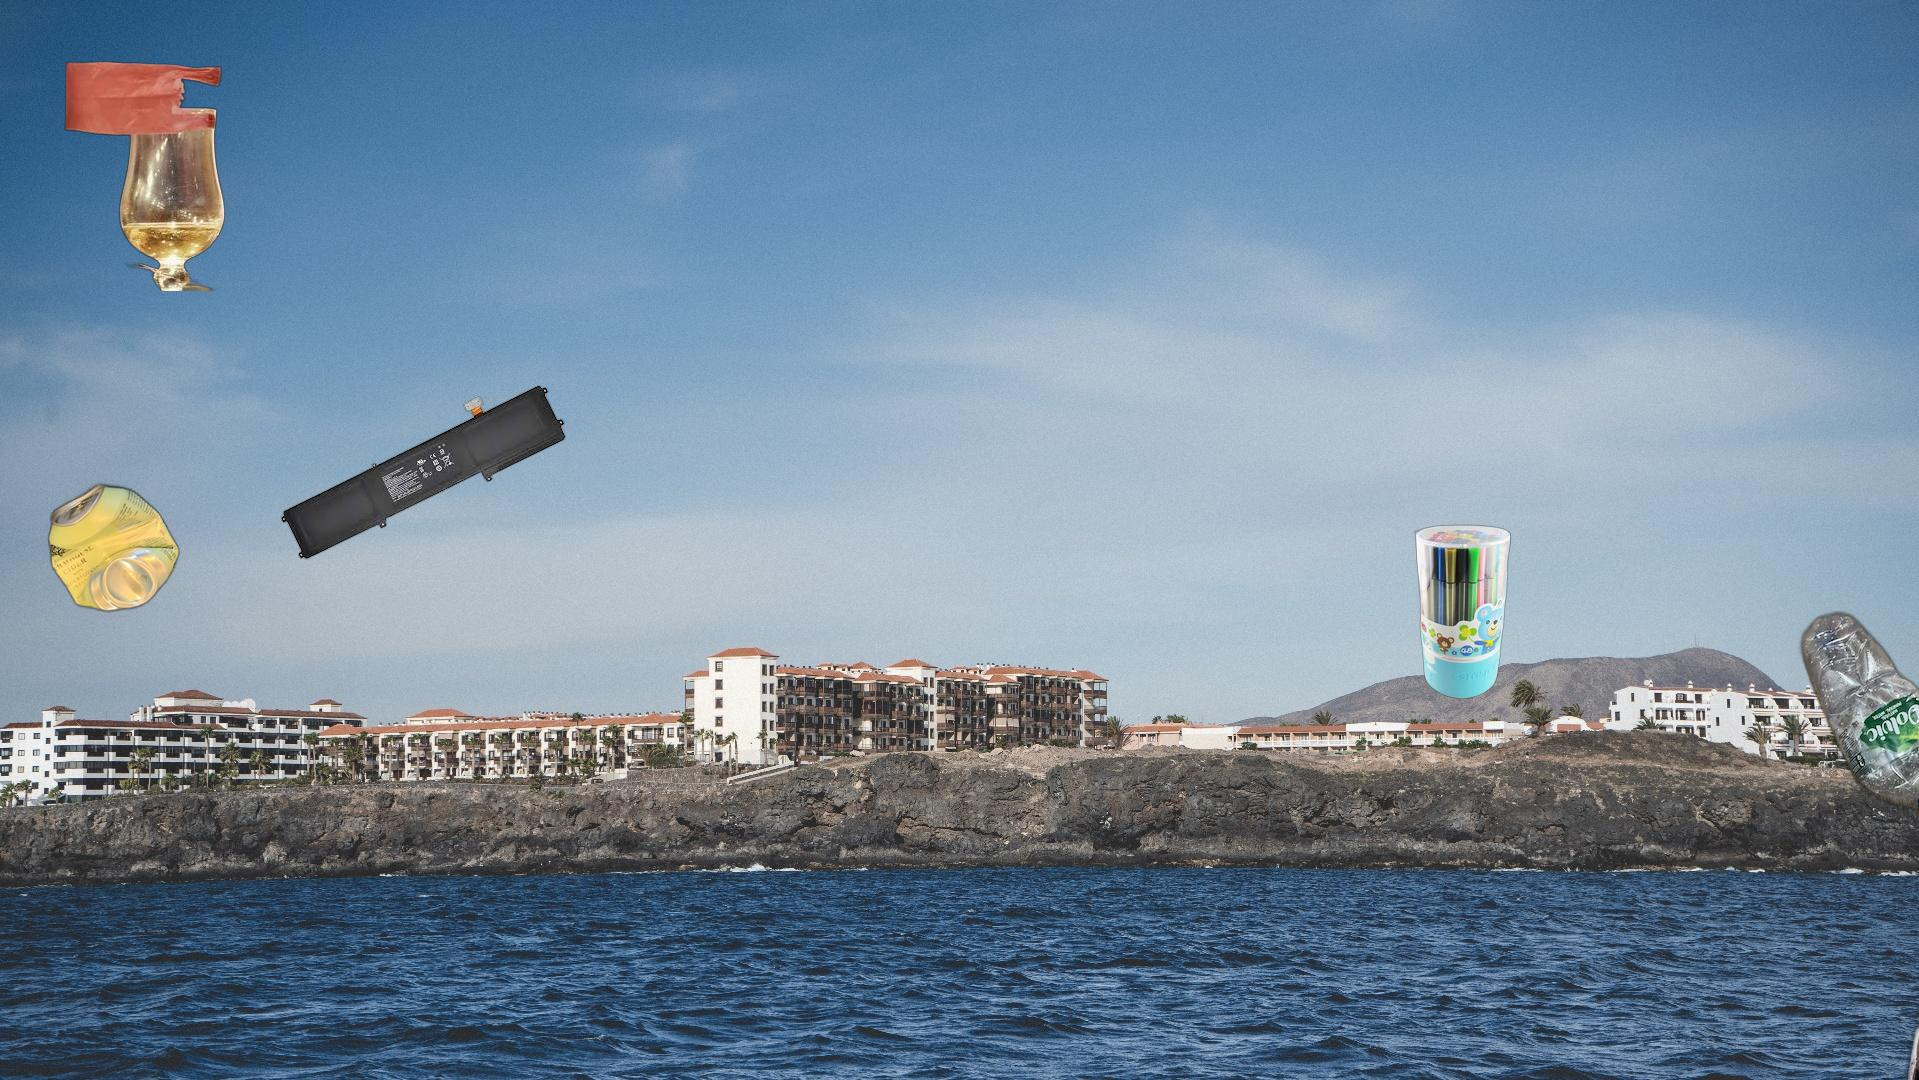battery: (279, 385, 567, 560)
metal-cans: (45, 477, 183, 618)
penholder: (1369, 522, 1514, 711)
plastic-bag: (62, 58, 278, 291)
plastic-bottles: (1795, 607, 1919, 829)
trashbox-cardboard: (1866, 744, 1919, 1080)
